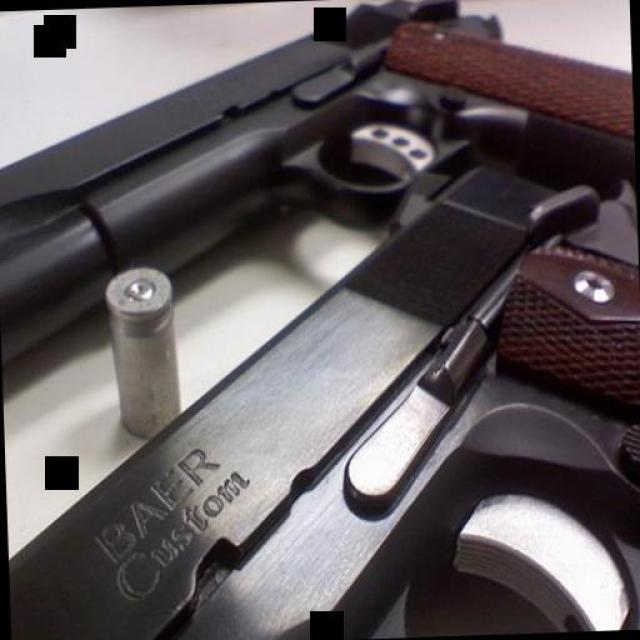gun: (0, 154, 640, 640), (0, 0, 640, 366)
